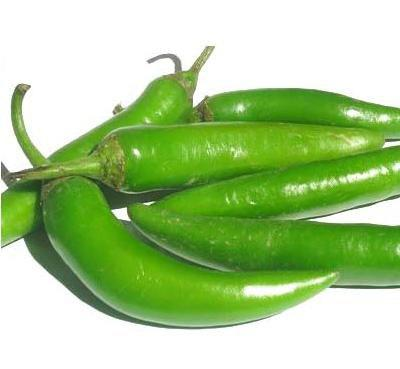lada hijau: (30, 158, 353, 331), (1, 65, 203, 248), (126, 195, 400, 295), (101, 105, 384, 195), (198, 80, 400, 139)
